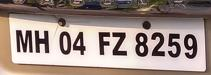0: (59, 31, 74, 54)
2: (149, 31, 166, 58)
4: (73, 31, 88, 56)
5: (168, 32, 184, 60)
8: (134, 32, 149, 59)
9: (183, 33, 199, 60)
F: (96, 28, 113, 57)
H: (34, 30, 51, 55)
M: (15, 27, 34, 55)
Z: (111, 30, 130, 59)
